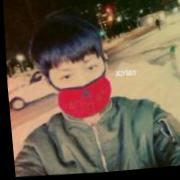WRONG: (47, 51, 111, 119)
